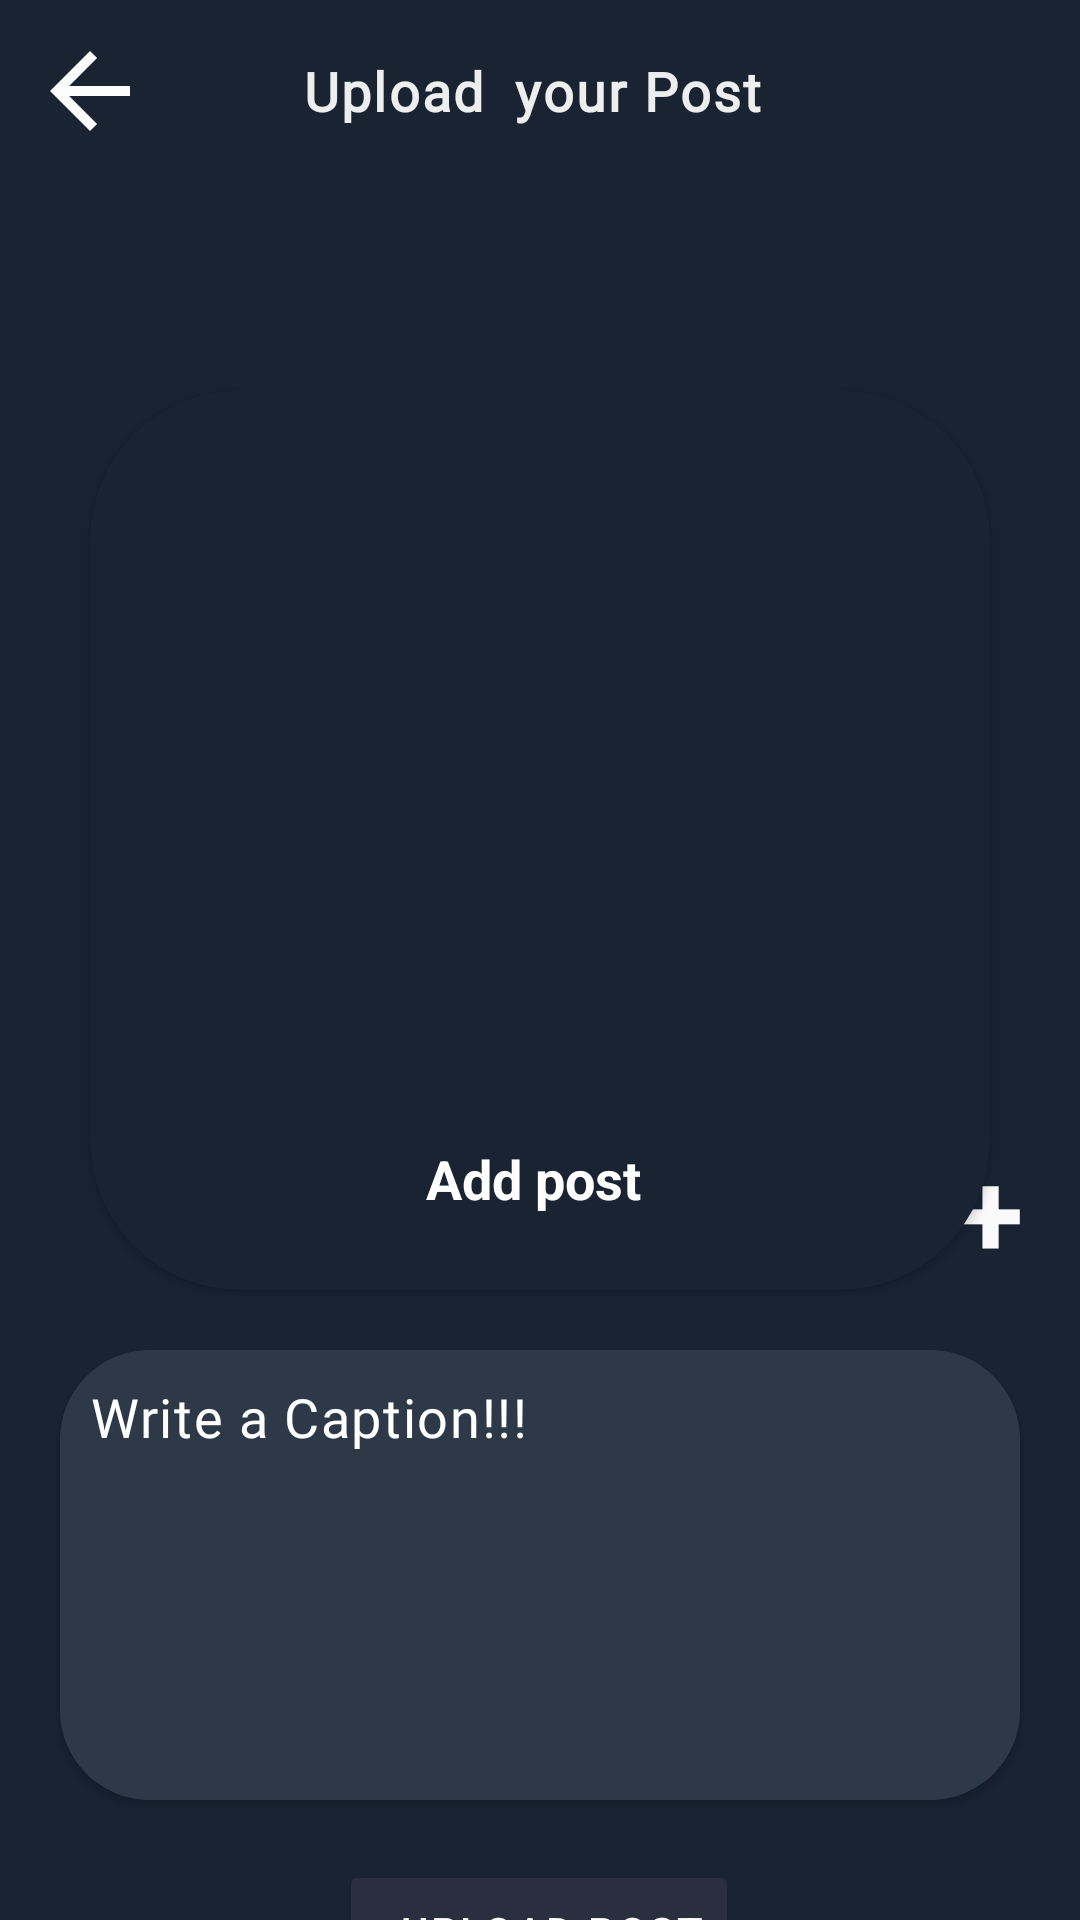

Named icons in this screenshot (1080x1920) and their bounding boxes, (x1, y1, x2, y2):
arrow back: (50, 51, 130, 131)
